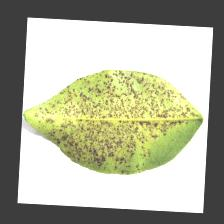canker: (76, 82, 155, 166)
